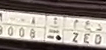0: (5, 15, 16, 39), (17, 16, 27, 39)
8: (29, 16, 37, 41)
D: (94, 21, 103, 47)
E: (82, 19, 92, 45)
Z: (72, 19, 80, 44)
